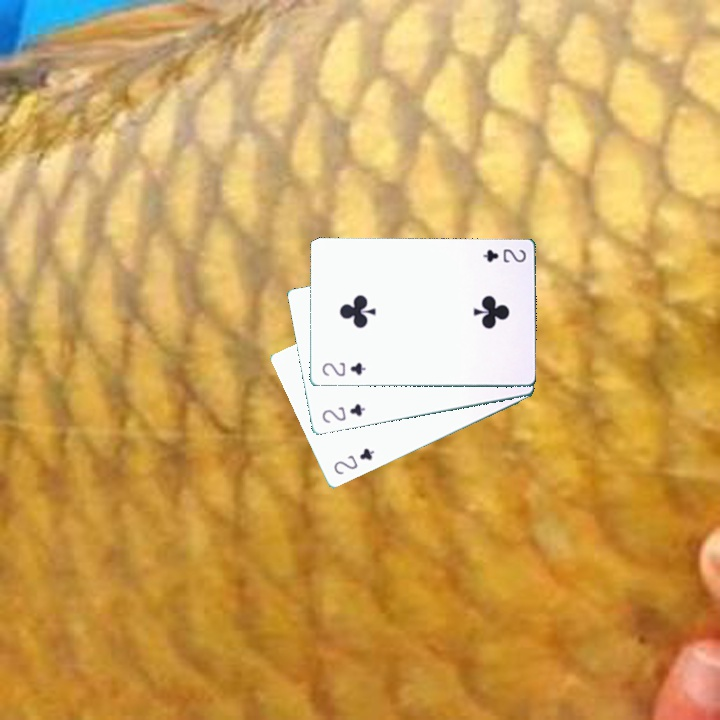2c: (330, 444, 377, 477), (318, 399, 368, 426), (318, 358, 368, 379), (479, 245, 528, 265)
